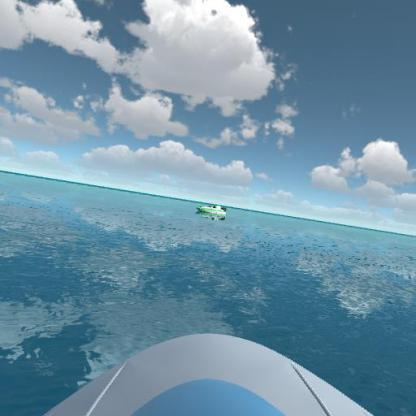usv0: (190, 198, 231, 223)
